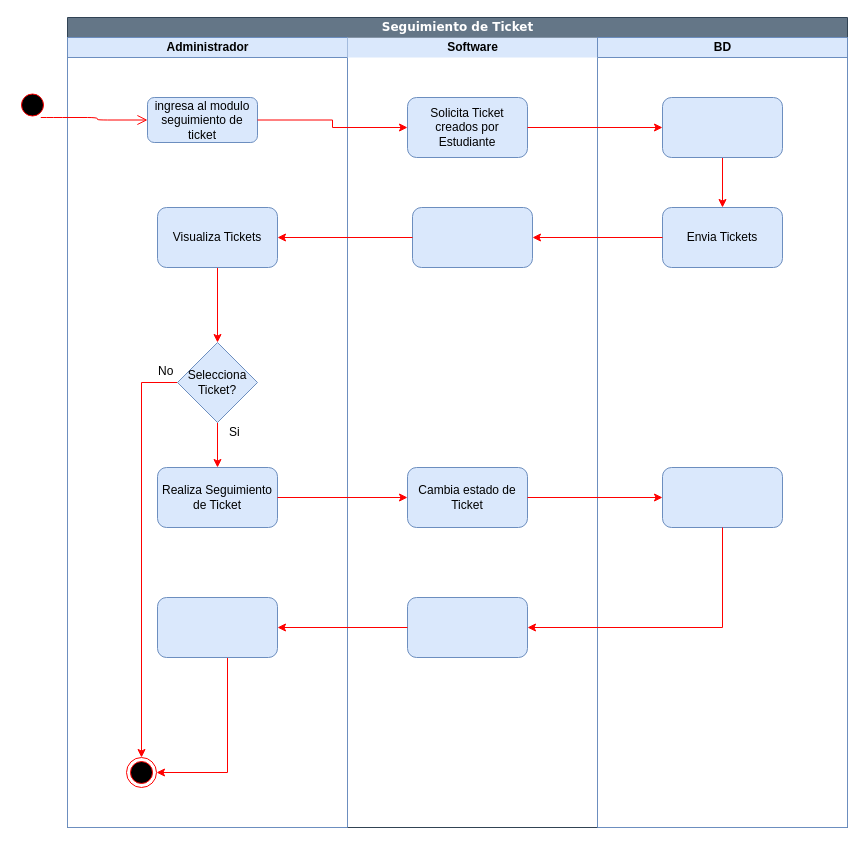
Image size: 865x845. Some labels were removed from this diagram. Here are the shapes that lost their labels. From the top down, the centre of each, then its label:
At (722,127): "Recibe Solicitud".
At (472,237): "Muestra Tickets por Estudiante".
At (722,497): "Se guarda el Cambio".
At (217,627): "Mensaje Exitoso".
At (467,627): "Notifica el Cambio".
